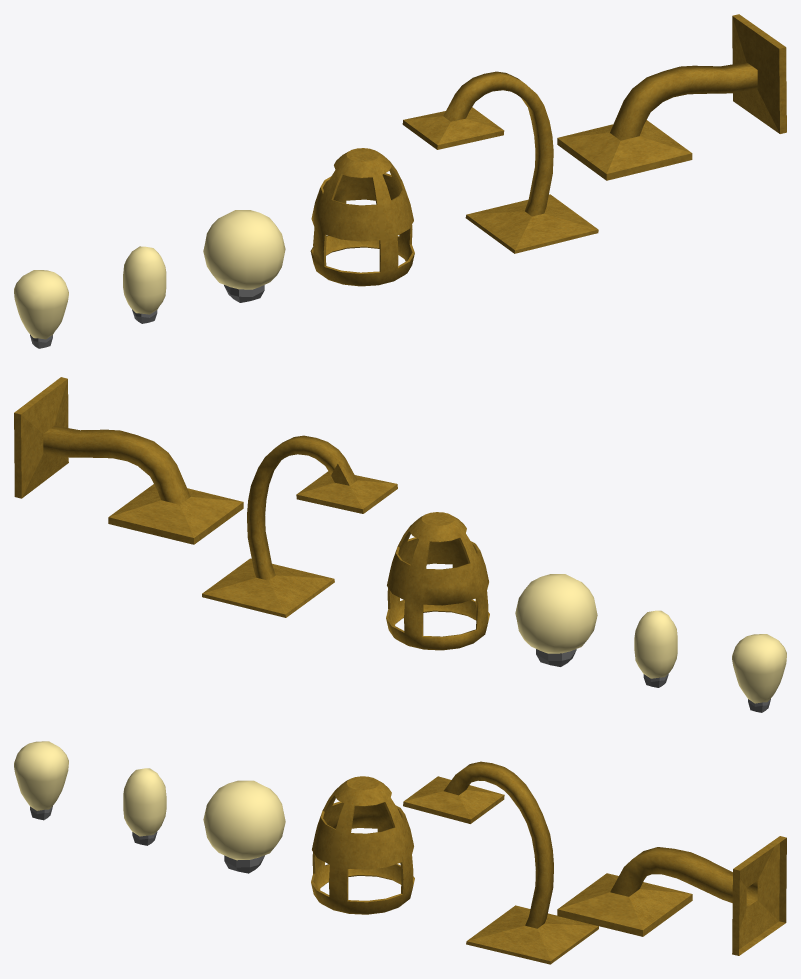
Rendered from lamb.fbx.
3 renders of one model, top to bottom at view 1: azimuth 30°, elevation 25°; view 2: azimuth 150°, elevation 25°; view 3: azimuth 330°, elevation 25°, orthographic.
Visible parts, largest first — view 1: Holder_2, Holder_1, Cage, Bulb_1, Bulb_3, Bulb_2; view 2: Holder_2, Holder_1, Cage, Bulb_1, Bulb_3, Bulb_2; view 3: Holder_2, Holder_1, Cage, Bulb_1, Bulb_3, Bulb_2.
Boxes of the visible parts, <box> form: Holder_2: <box>557,14,786,180</box>; Holder_1: <box>402,71,598,253</box>; Cage: <box>310,148,414,286</box>; Bulb_1: <box>203,210,285,302</box>; Bulb_3: <box>14,270,68,348</box>; Bulb_2: <box>123,246,166,323</box>; Holder_2: <box>14,377,243,544</box>; Holder_1: <box>202,435,397,617</box>; Cage: <box>386,512,489,650</box>; Bulb_1: <box>515,574,597,666</box>; Bulb_3: <box>732,634,786,712</box>; Bulb_2: <box>634,610,677,687</box>; Holder_2: <box>557,836,786,955</box>; Holder_1: <box>403,761,598,964</box>; Cage: <box>311,776,414,914</box>; Bulb_1: <box>203,780,285,873</box>; Bulb_3: <box>14,741,68,820</box>; Bulb_2: <box>123,768,166,845</box>.
Bounding box in the file's own units: 3.44 × 0.7085 × 0.4173.
